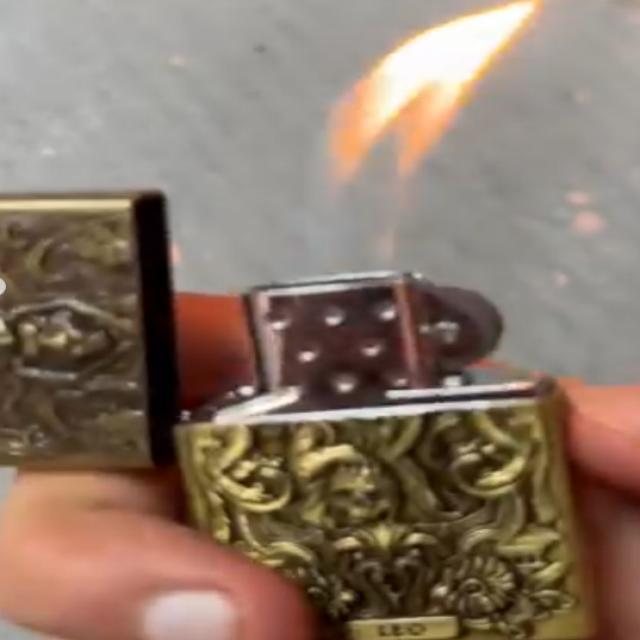fire: (329, 0, 540, 181)
